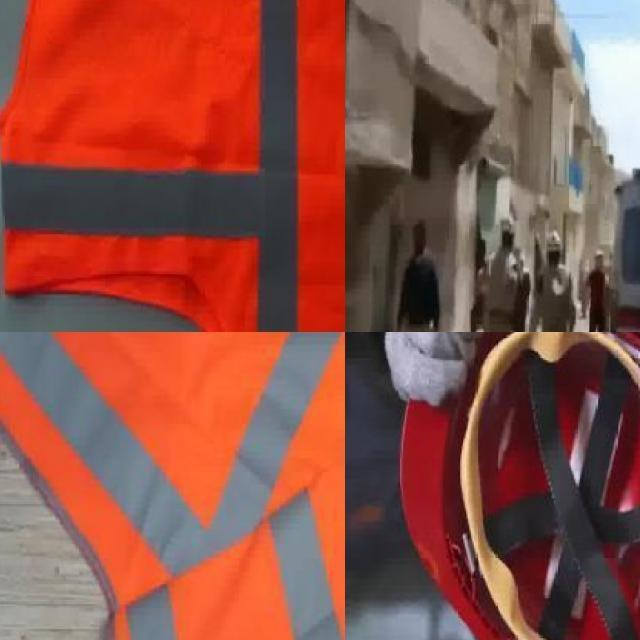apron: (384, 332, 513, 411)
